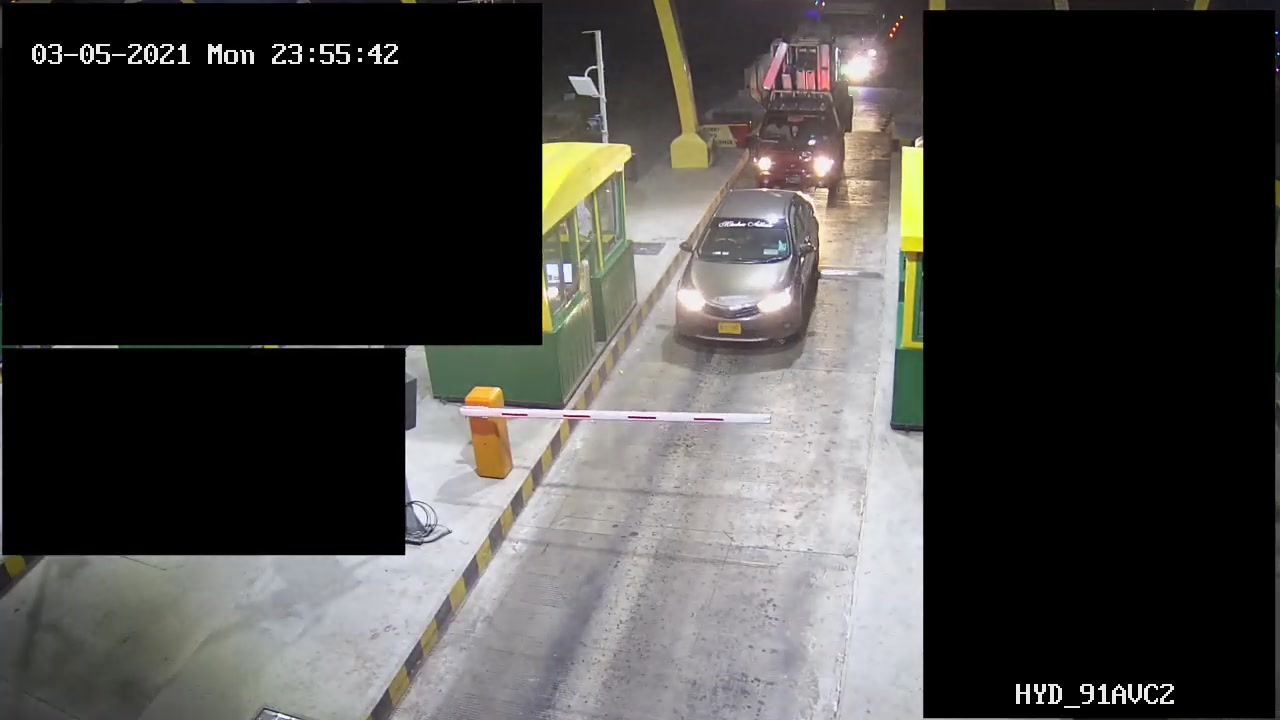F1: (660, 183, 821, 362)
F2: (743, 37, 856, 191)
